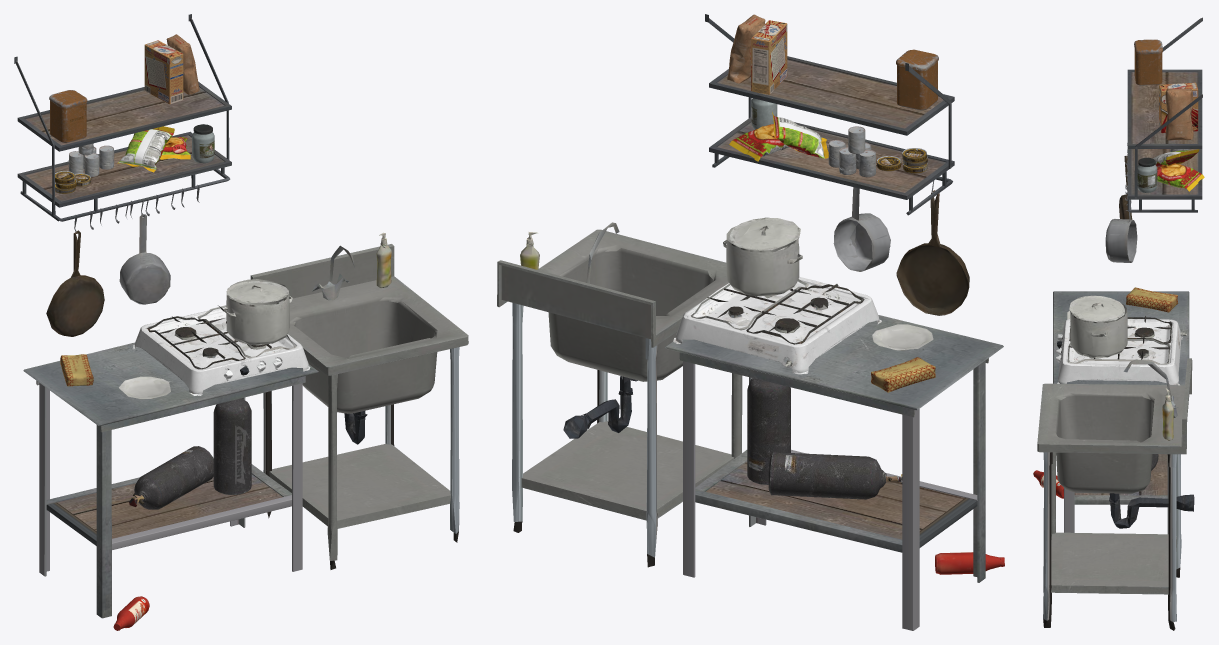
Rendered from kitchen_station.glb.
The picture shows the model from 3 angles, left to right: view 1: azimuth 30°, elevation 25°; view 2: azimuth 150°, elevation 25°; view 3: azimuth 270°, elevation 25°; orthographic projection. The views are drawn at different scales.
Parts seen in each view (by area): view 1: kitchen_station; view 2: kitchen_station; view 3: kitchen_station.
Boxes of the visible parts, x1,y1,x2,y2 form: kitchen_station: (14,14,468,630); kitchen_station: (497,14,1004,630); kitchen_station: (1033,17,1204,630).
Bounding box in the file's own units: 1.73 × 2.24 × 0.7528.
Materials: 6 (6 with a texture image).
